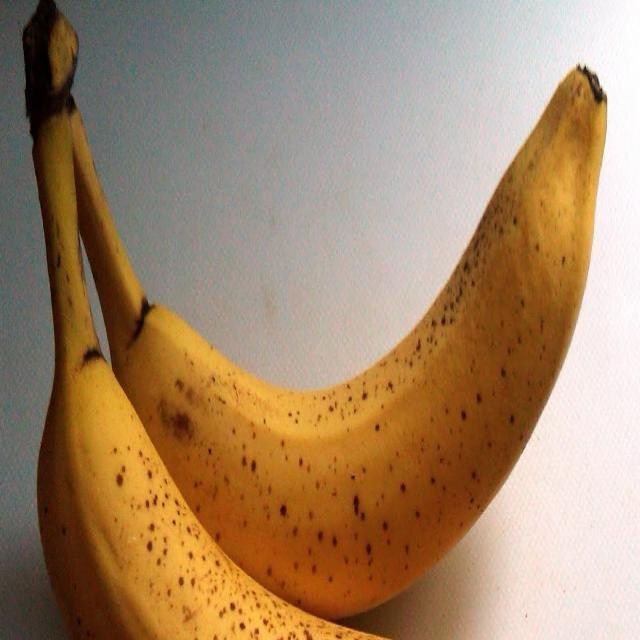Banana: (121, 66, 609, 618), (30, 352, 393, 640)
